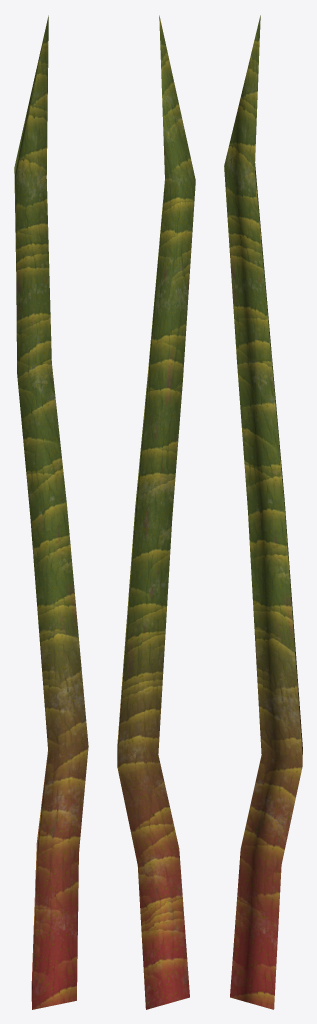
Rendered from phys_Plant5_1.fbx.
3 views of the same model, side by side, from view 1: azimuth 30°, elevation 25°; view 2: azimuth 150°, elevation 25°; view 3: azimuth 330°, elevation 25° (orthographic).
Parts seen in each view (by area): view 1: polySurface13; view 2: polySurface13; view 3: polySurface13.
Boxes of the visible parts, x1,y1,x2,y2 form: polySurface13: (14, 15, 88, 1009); polySurface13: (117, 15, 195, 1009); polySurface13: (224, 15, 302, 1009).
Bounding box in the file's own units: 44.18 × 548 × 28.54.
